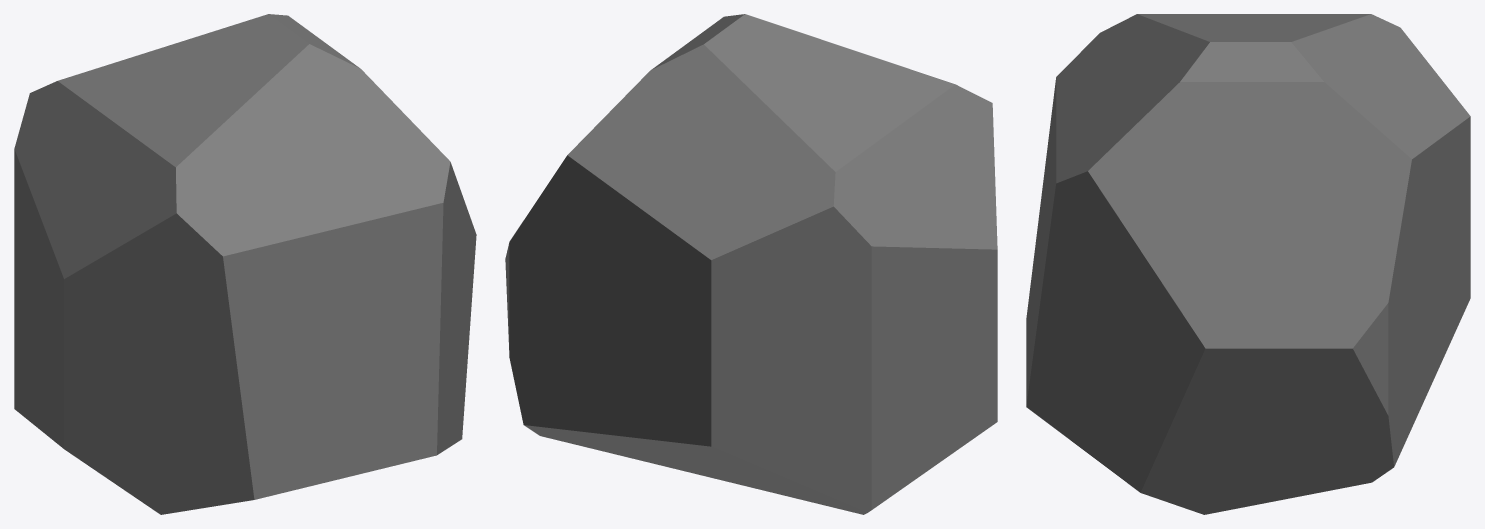
File: Stone.gltf
3 views of the same model, side by side, from view 1: azimuth 30°, elevation 25°; view 2: azimuth 150°, elevation 25°; view 3: azimuth 270°, elevation 25° (orthographic). The views are drawn at different scales.
Visible parts, largest first — view 1: Rock_01_LOD0; view 2: Rock_01_LOD0; view 3: Rock_01_LOD0.
Boxes of the visible parts, x1=… form: Rock_01_LOD0: x1=14, y1=14, x2=476, y2=514; Rock_01_LOD0: x1=505, y1=14, x2=997, y2=514; Rock_01_LOD0: x1=1026, y1=14, x2=1470, y2=514.
Size of the model in its own units: 0.972 by 0.9559 by 0.9173.
